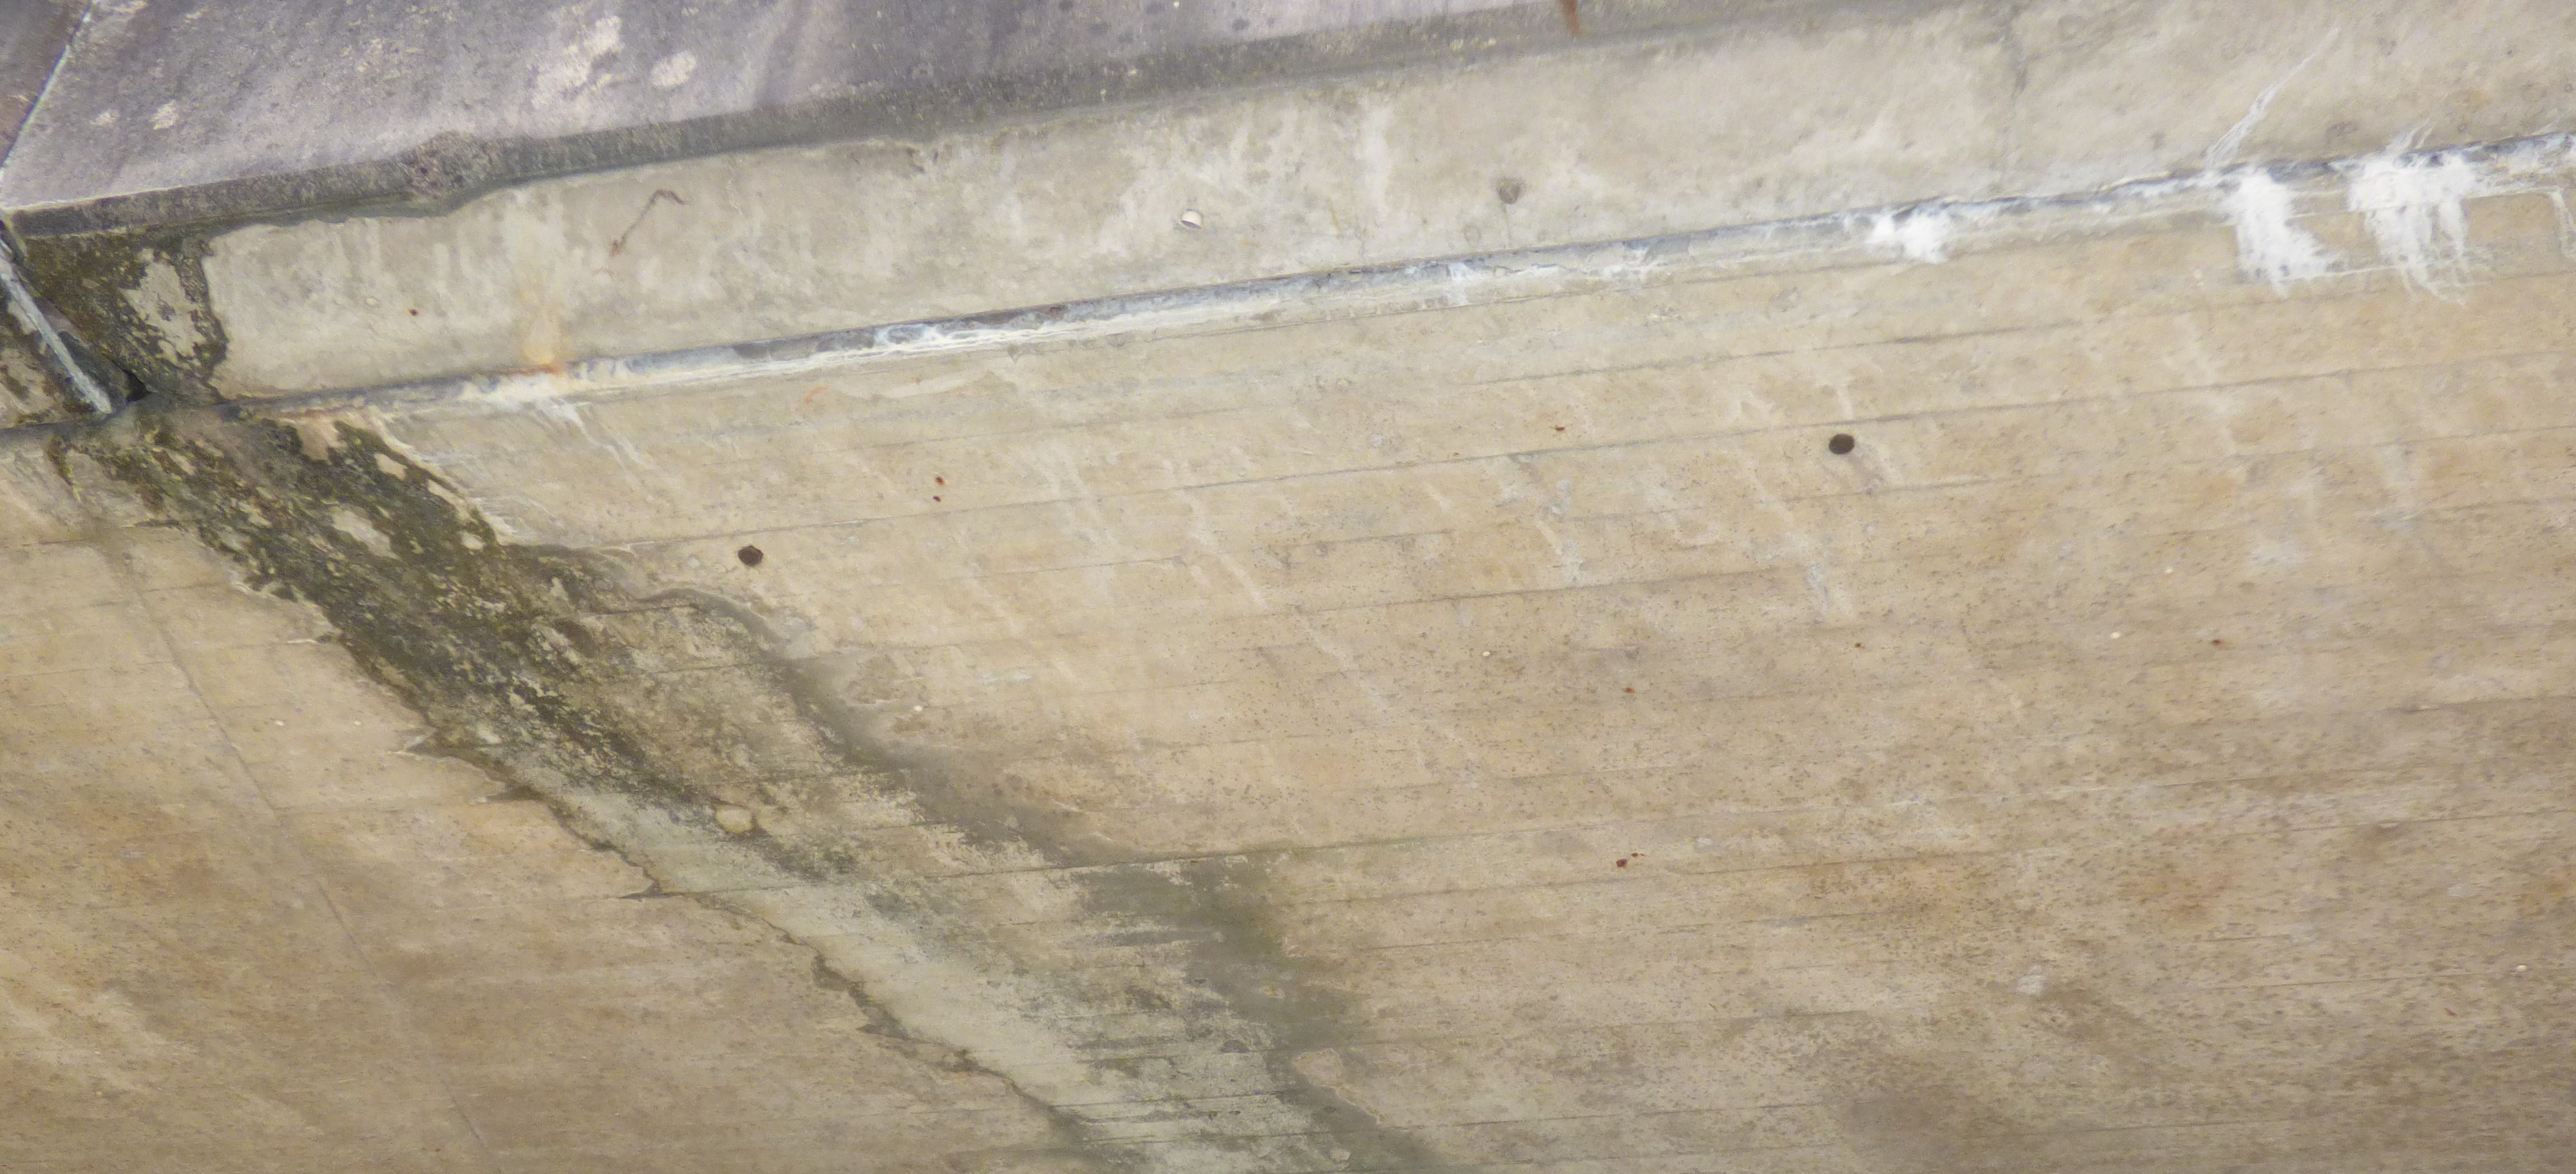Corrosion: (0, 225, 1449, 1174)
